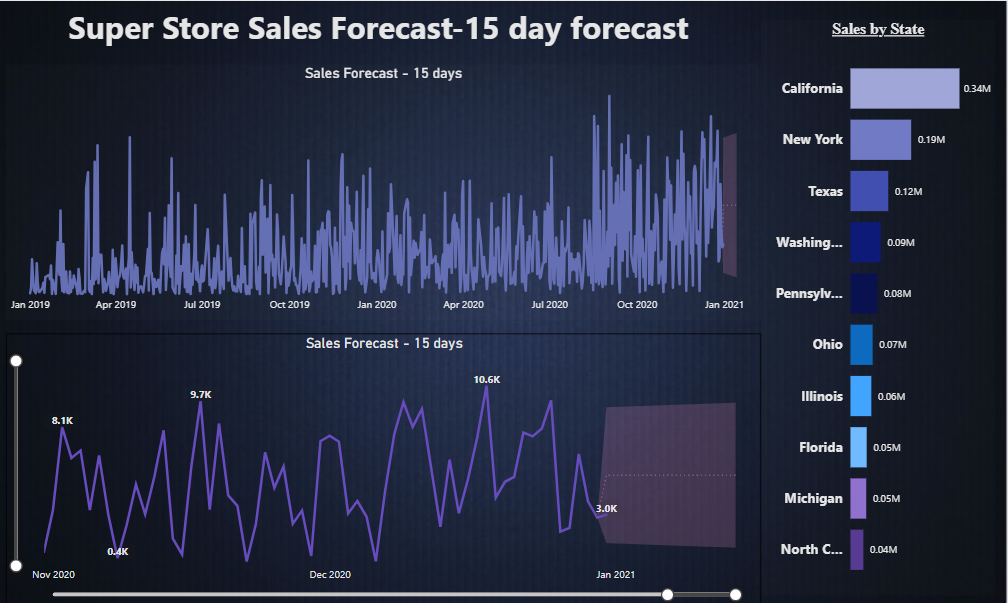

This screenshot's page, from the dashboard's own definition file:
{"tool":"powerbi","page":{"name":"Page 2","canvas":[1280,720],"ordinal":1},"visuals":[{"type":"lineChart","title":"Sales Forecast - 15 days","fields":{"Y":["Sum(SuperStore_Sales_Dataset.Sales)"],"Category":["SuperStore_Sales_Dataset.Order Date"]},"box":[48,396.6,901.5,323.8],"z":0},{"type":"lineChart","title":"Sales Forecast - 15 days","fields":{"Y":["Sum(SuperStore_Sales_Dataset.Sales)"],"Category":["SuperStore_Sales_Dataset.Order Date"]},"box":[48,76.8,901.5,304.6],"z":1000},{"type":"textbox","box":[48,0,889.2,107],"z":2000},{"type":"clusteredBarChart","title":"Sales by State","fields":{"Category":["SuperStore_Sales_Dataset.State"],"Y":["Sum(SuperStore_Sales_Dataset.Sales)"]},"box":[949.6,22,279.9,687.5],"z":3000}]}

Visuals, with their boxes on the page's 1280x720 design canvas (x1, y1, x2, y2). These are canvas units, not pixel positions in the 1008x603 screenshot, which may show the page scaled, cropped or inside an application window:
"Sales Forecast - 15 days" lineChart: <box>48,397,950,720</box>
"Sales Forecast - 15 days" lineChart: <box>48,77,950,381</box>
textbox: <box>48,0,937,107</box>
"Sales by State" clusteredBarChart: <box>950,22,1230,710</box>
